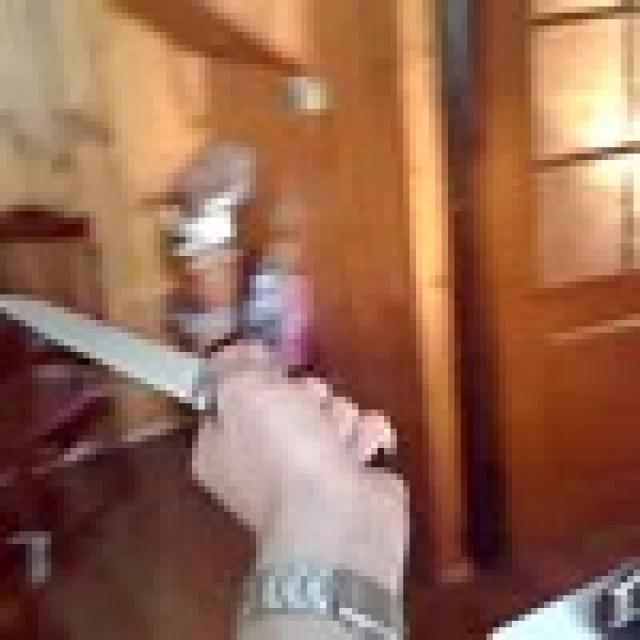Knife: (0, 288, 237, 422)
